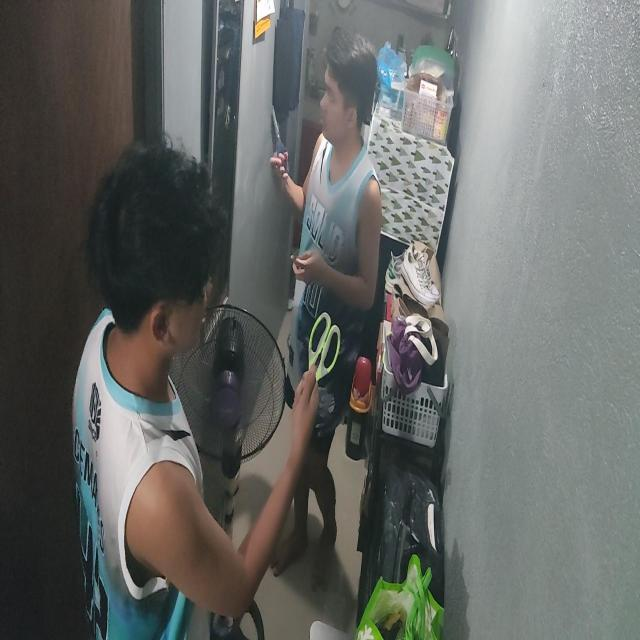scissor: (296, 312, 340, 410), (269, 104, 290, 176)
